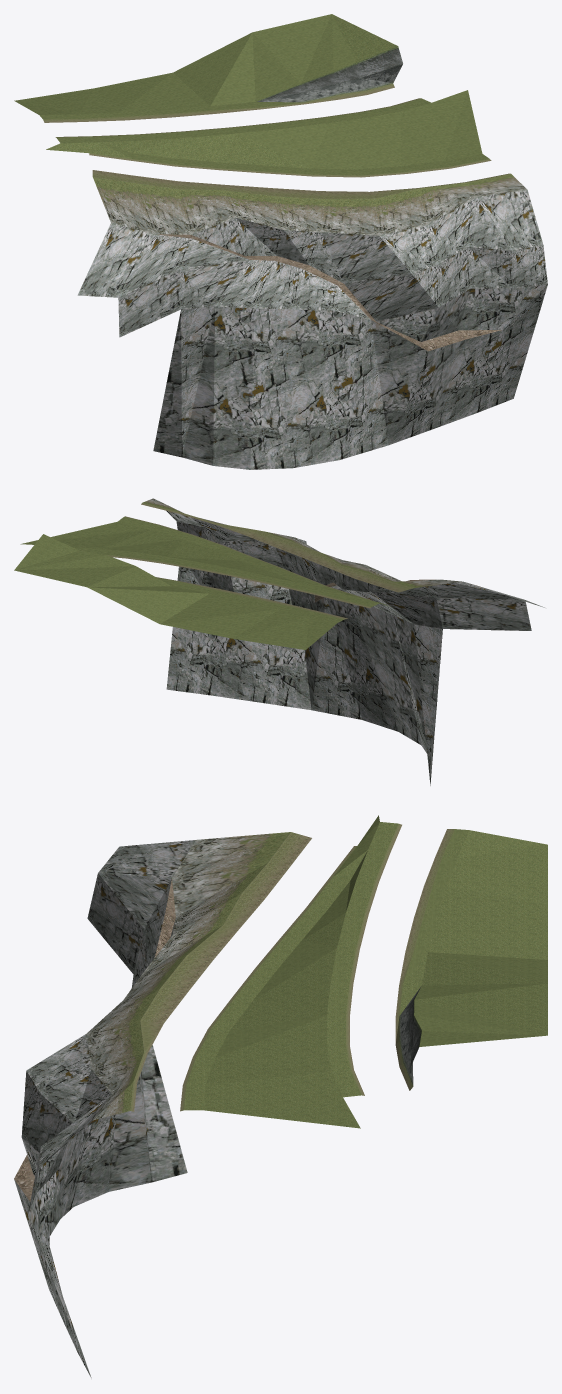
File: cs_landbit_80.obj
3 renders of one model, top to bottom at view 1: azimuth 30°, elevation 25°; view 2: azimuth 150°, elevation 25°; view 3: azimuth 270°, elevation 25°, orthographic. The views are drawn at different scales.
Parts seen in each view (by area): view 1: cs_landbit_80; view 2: cs_landbit_80; view 3: cs_landbit_80.
Part boxes in pixels (left/top/right/bottom): cs_landbit_80: left=14, top=14, right=547, bottom=469; cs_landbit_80: left=14, top=498, right=544, bottom=785; cs_landbit_80: left=14, top=815, right=547, bottom=1378.
Bounding box in the file's own units: 191 × 98.57 × 140.
7 materials, 7 textured.
